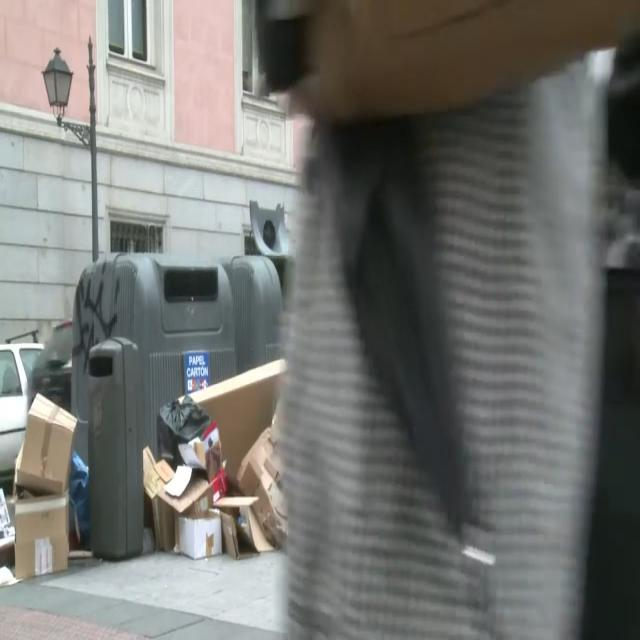high trash: (142, 360, 288, 558), (0, 393, 91, 586)
